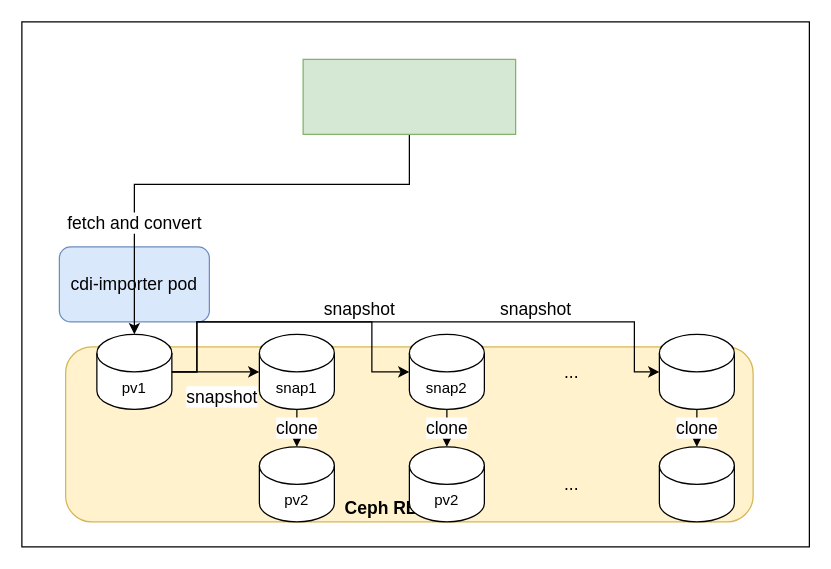
This 831x569 diagram has some shape labels left out. The centre of each missing label's shape, as x and y in pixels:
External Image Source HTTP, MINIO..., etc.: (x=409, y=96)
pv10: (x=696, y=484)
snap10: (x=696, y=371)
